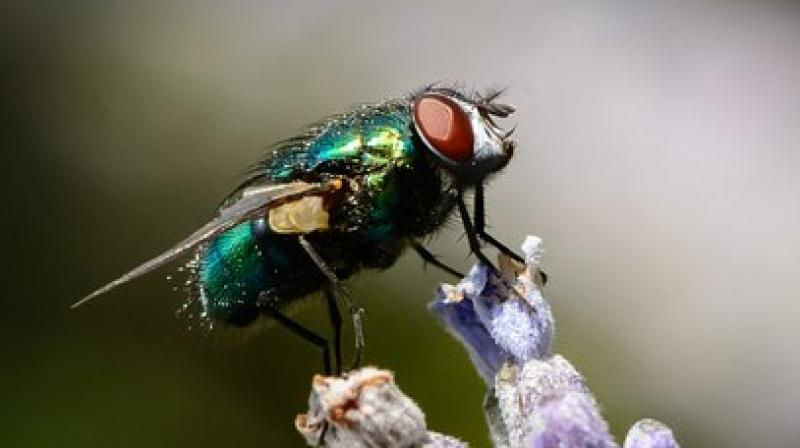fly: (60, 68, 559, 390)
